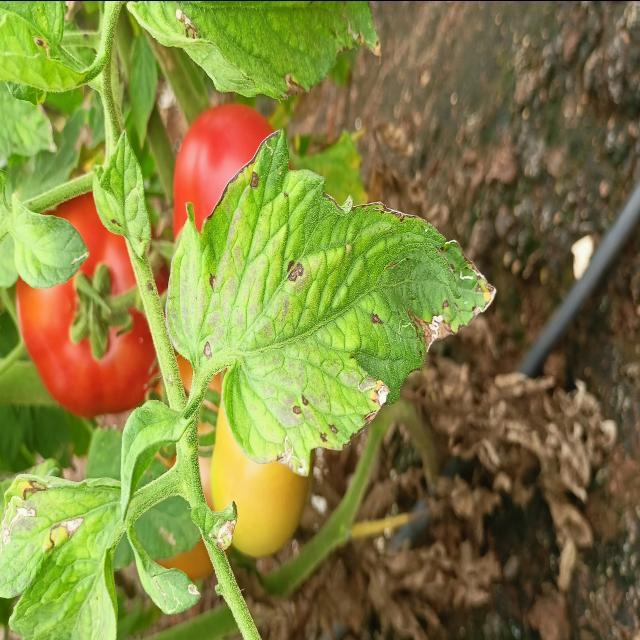Tomato mosaic virus leaf: (222, 160, 500, 479)
